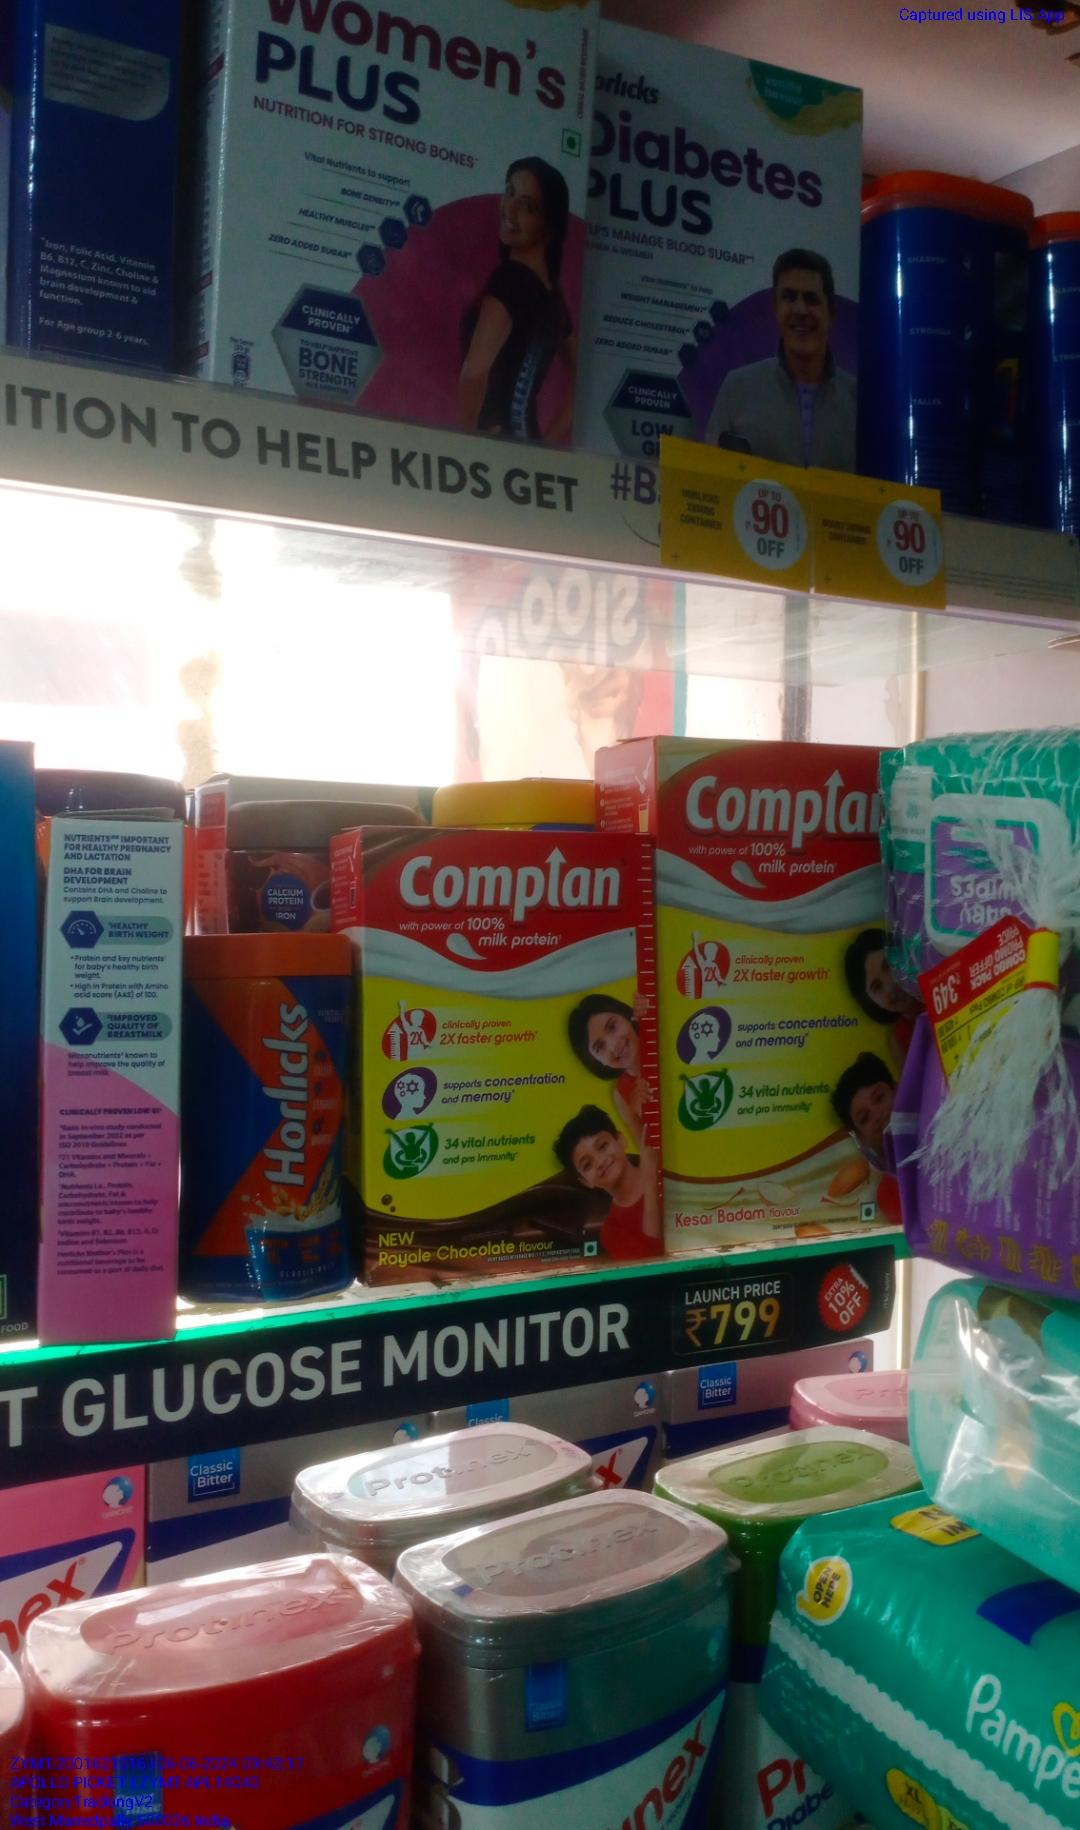HORLICK_CLASSIC_MALT_200_G_JAR: (185, 932, 352, 1298)
